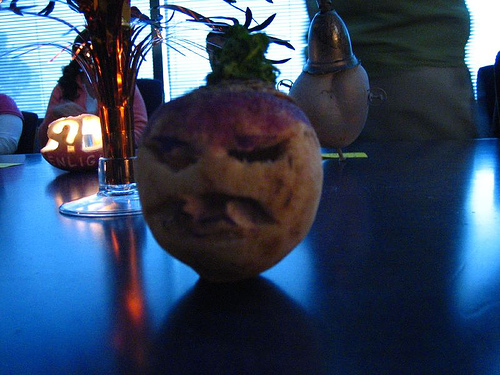turnip: (134, 11, 321, 277)
